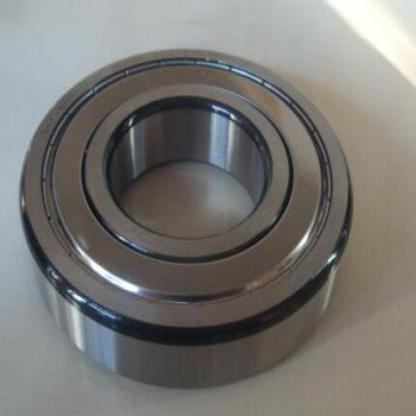FOD: (13, 39, 359, 392)
